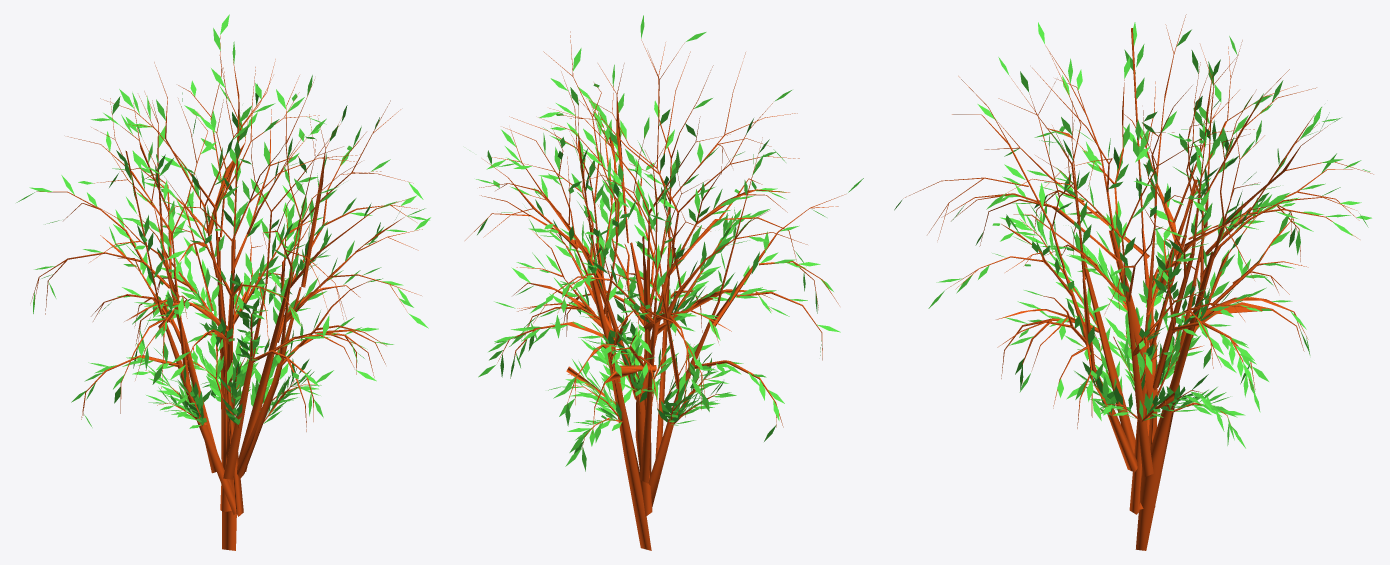
File: tree test merged 0.25.fbx
The picture shows the model from 3 angles, left to right: view 1: azimuth 30°, elevation 25°; view 2: azimuth 150°, elevation 25°; view 3: azimuth 270°, elevation 25°; orthographic projection. The views are drawn at different scales.
Parts seen in each view (by area): view 1: leaves; view 2: leaves; view 3: leaves.
Boxes of the visible parts, x1,y1,x2,y2 form: leaves: (16,14,430,550); leaves: (465,15,863,550); leaves: (894,14,1373,550).
Bounding box in the file's own units: 623 × 843 × 721.
